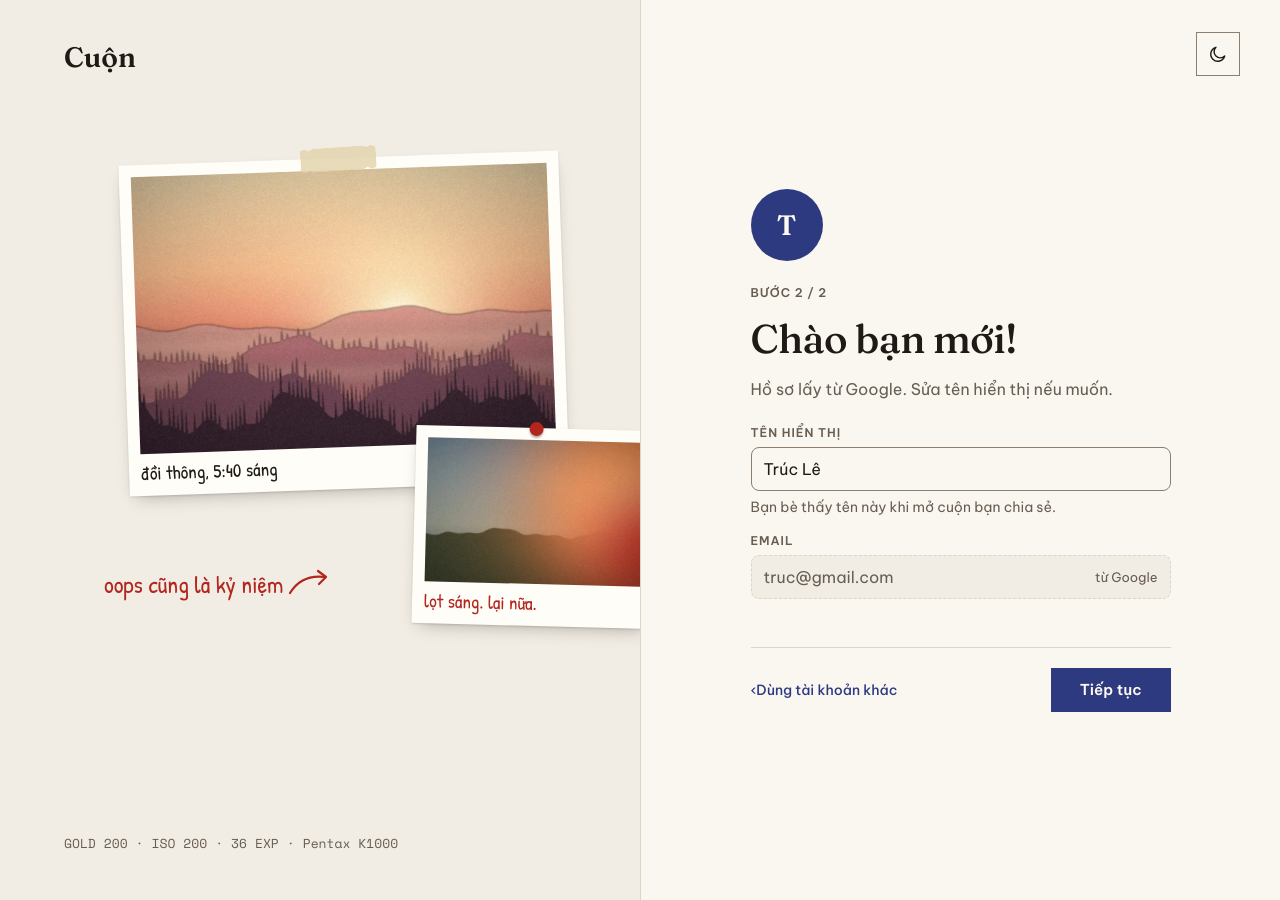
Scenario: ProfileContent › shows the too-long error under the field
Click the button "Tiếp tục": (1111, 690) [1051,668,1170,712]
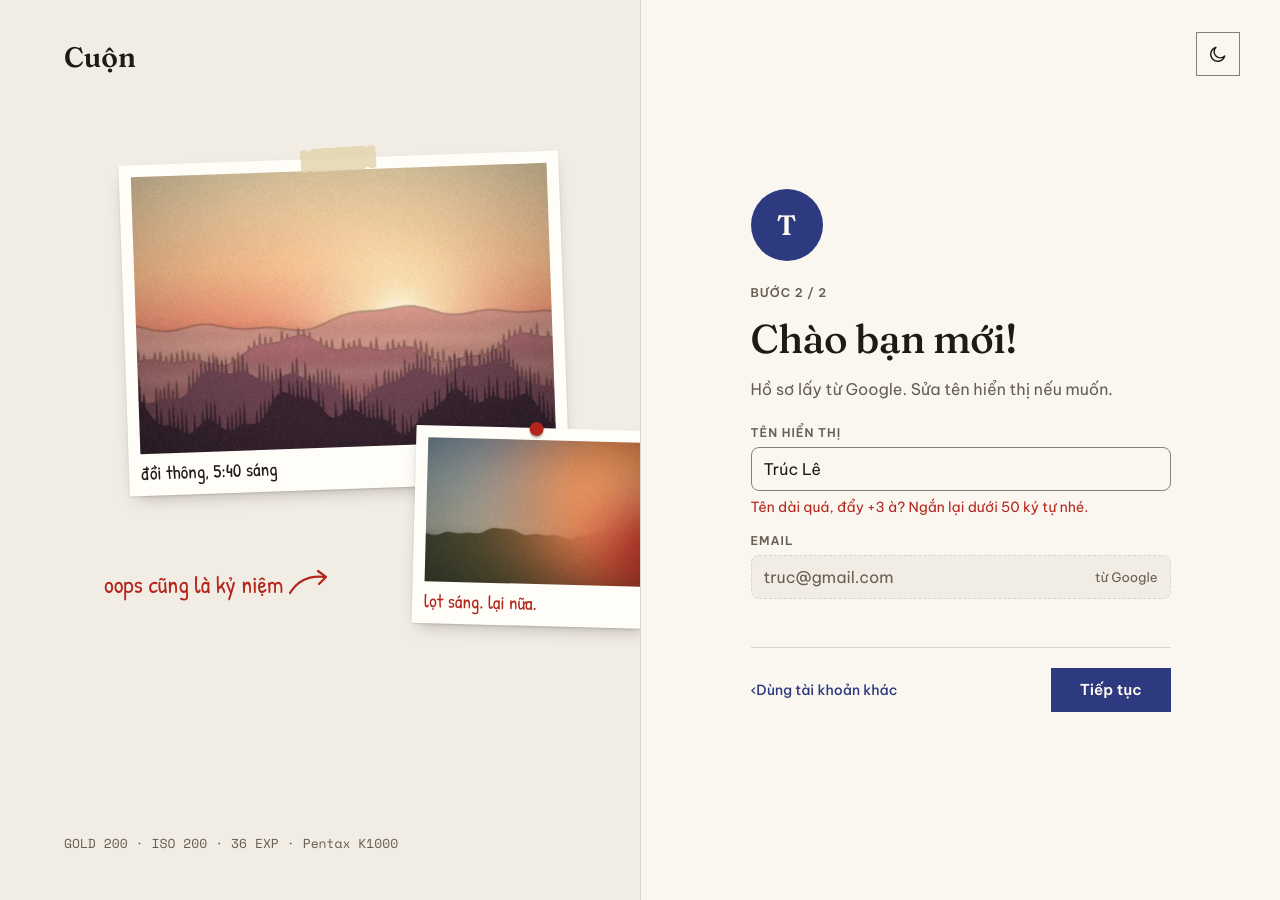
Expected: the text "Tên dài quá, đẩy +3 à? Ngắn lại dưới 50 ký tự nhé." is shown, [750,498,1088,516]
